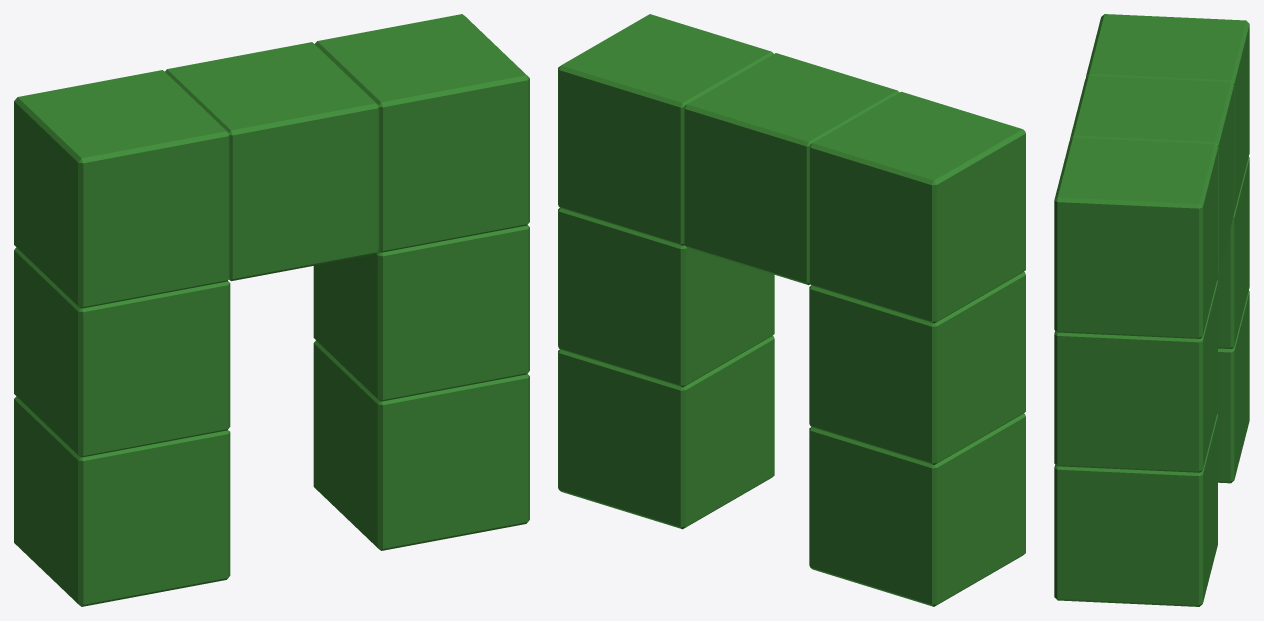
Rendered from arche.fbx.
3 views of the same model, side by side, from view 1: azimuth 30°, elevation 25°; view 2: azimuth 150°, elevation 25°; view 3: azimuth 270°, elevation 25° (orthographic). The views are drawn at different scales.
Parts seen in each view (by area): view 1: Box142; view 2: Box142; view 3: Box142.
Boxes of the visible parts, left/top/right/bottom form: Box142: left=14, top=14, right=529, bottom=606; Box142: left=558, top=14, right=1025, bottom=606; Box142: left=1054, top=14, right=1249, bottom=606.
Bounding box in the file's own units: 214 × 208 × 91.55.
